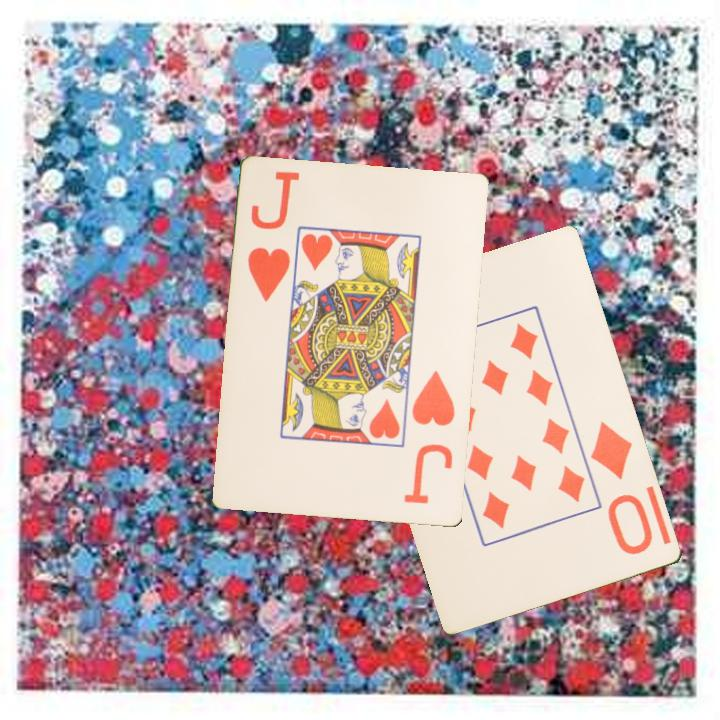10d: (587, 417, 657, 558)
Jh: (402, 367, 458, 508), (244, 244, 294, 305)
